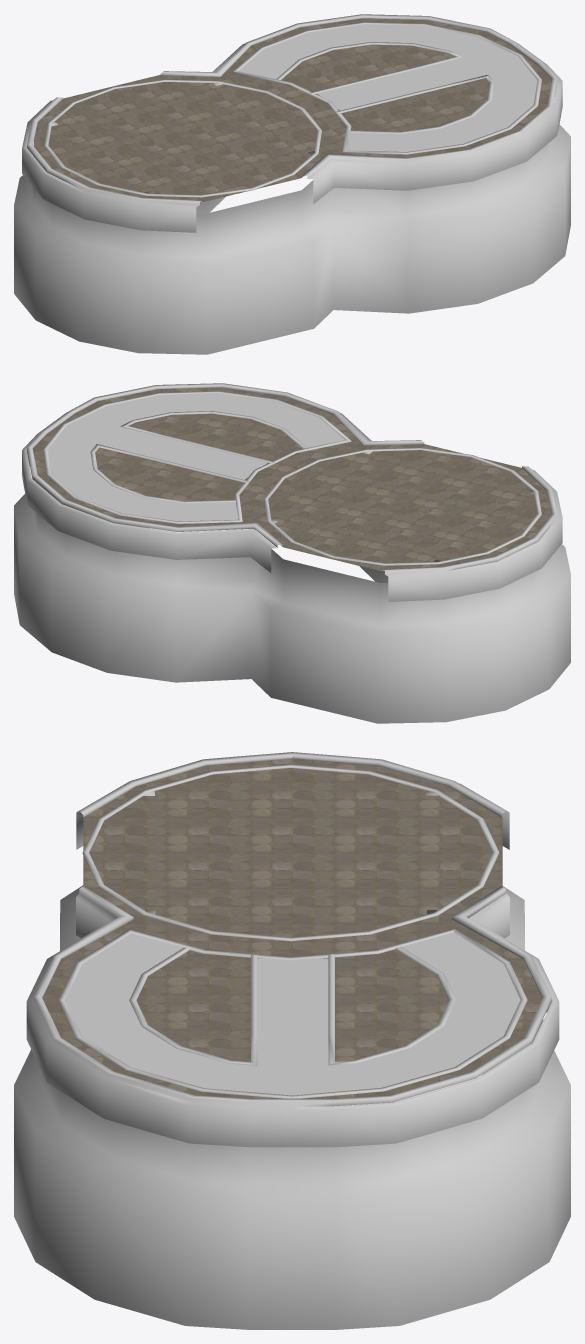
Rendered from t_pngtai07.FBX.
3 renders of one model, top to bottom at view 1: azimuth 30°, elevation 25°; view 2: azimuth 150°, elevation 25°; view 3: azimuth 270°, elevation 25°, orthographic. The views are drawn at different scales.
Parts seen in each view (by area): view 1: t_pngtai07_qiang, t_pngtai07_dimian01, t_pngtai07_dimian02; view 2: t_pngtai07_qiang, t_pngtai07_dimian01, t_pngtai07_dimian02; view 3: t_pngtai07_qiang, t_pngtai07_dimian01, t_pngtai07_dimian02.
Part boxes in pixels (x1,y1,x2,y2): t_pngtai07_qiang: (14,14,570,354); t_pngtai07_dimian01: (33,18,551,201); t_pngtai07_dimian02: (238,24,537,151); t_pngtai07_qiang: (14,383,570,723); t_pngtai07_dimian01: (33,387,551,571); t_pngtai07_dimian02: (48,393,344,521); t_pngtai07_qiang: (14,752,570,1329); t_pngtai07_dimian01: (42,758,542,1098); t_pngtai07_dimian02: (65,932,520,1095).
Size of the model in its own units: 6234 by 1747 by 4008.
